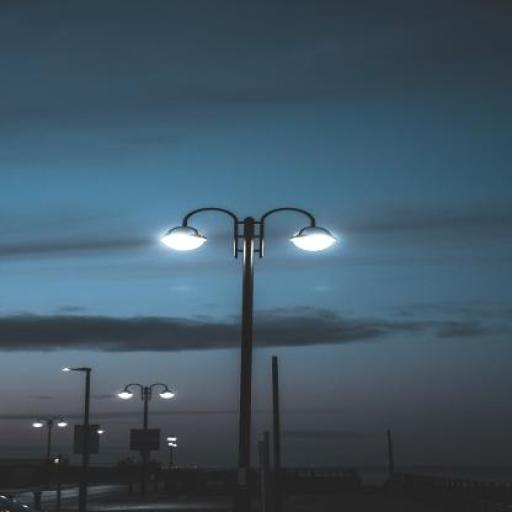street light: (159, 206, 338, 492), (118, 383, 175, 511), (60, 368, 94, 511), (33, 417, 68, 505)
